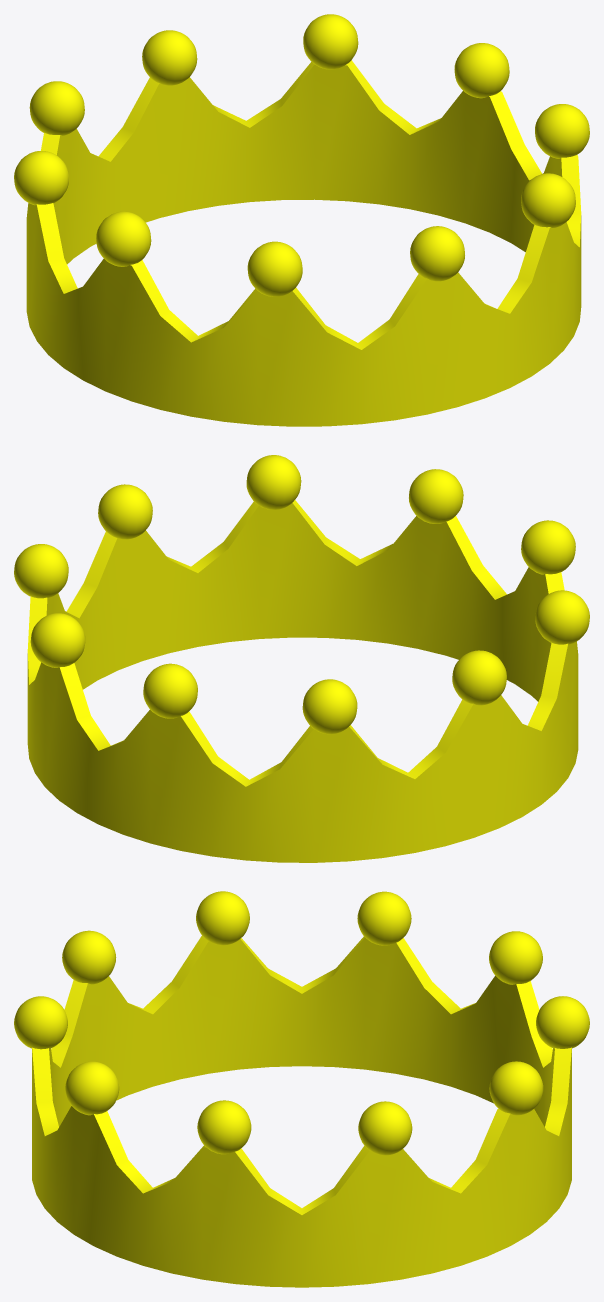
File: Crown.fbx
The picture shows the model from 3 angles, top to bottom: view 1: azimuth 30°, elevation 25°; view 2: azimuth 150°, elevation 25°; view 3: azimuth 270°, elevation 25°; orthographic projection. The views are drawn at different scales.
Visible parts, largest first — view 1: pCylinder2, pSphere7, pSphere2, pSphere8, pSphere3, pSphere1, pSphere6, pSphere5, pSphere10, pSphere9, pSphere4; view 2: pCylinder2, pSphere5, pSphere9, pSphere4, pSphere10, pSphere8, pSphere3, pSphere6, pSphere2, pSphere1, pSphere7; view 3: pCylinder2, pSphere6, pSphere10, pSphere5, pSphere7, pSphere4, pSphere1, pSphere9, pSphere2, pSphere8, pSphere3.
Boxes of the visible parts, x1,y1,x2,y2 form: pCylinder2: (26,60,581,426); pSphere7: (303,14,358,69); pSphere2: (247,241,302,296); pSphere8: (142,30,197,85); pSphere3: (410,226,464,281); pSphere1: (96,211,151,266); pSphere6: (454,43,509,98); pSphere5: (535,104,589,158); pSphere10: (14,151,68,205); pSphere9: (29,81,84,135); pSphere4: (521,173,575,227); pCylinder2: (27,500,578,862); pSphere5: (98,484,152,539); pSphere9: (302,679,357,734); pSphere4: (246,455,301,509); pSphere10: (452,650,506,705); pSphere8: (143,663,197,718); pSphere3: (409,469,463,523); pSphere6: (14,544,68,598); pSphere2: (521,520,575,574); pSphere1: (535,590,589,644); pSphere7: (30,613,85,667); pCylinder2: (32,936,571,1287); pSphere6: (358,1101,412,1155); pSphere10: (357,891,411,945); pSphere5: (197,1100,251,1154); pSphere7: (489,1061,543,1115); pSphere4: (65,1061,119,1115); pSphere1: (196,891,249,945); pSphere9: (489,931,542,984); pSphere2: (62,930,116,984); pSphere8: (536,996,589,1048); pSphere3: (14,996,67,1049).
Bounding box in the file's own units: 0.0204 × 0.00712 × 0.0213.
